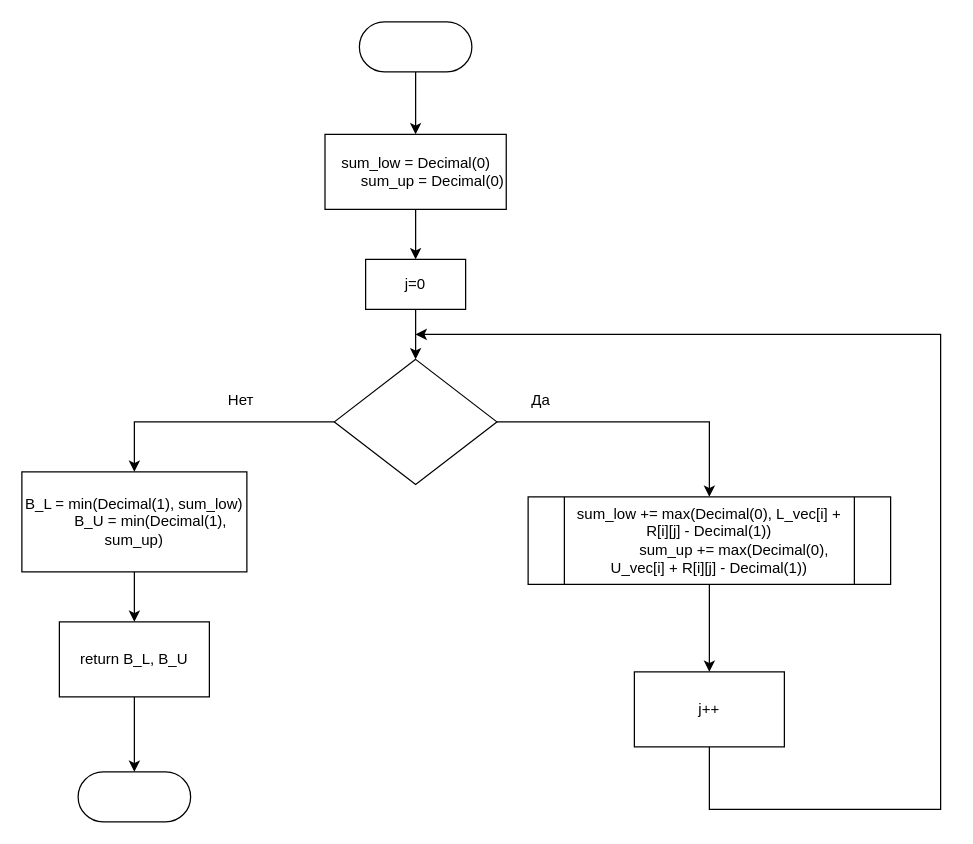
Some shapes in this 973 by 844 pixel diagram are drawn without their labels. The shapes that lost their labels are listed below. From the top down, each one's box as (x1, y1, x2, y2) in pixels, then its label:
(358, 21, 472, 72): begin
(333, 358, 497, 484): j<len(num_rows)
(77, 771, 191, 822): end
